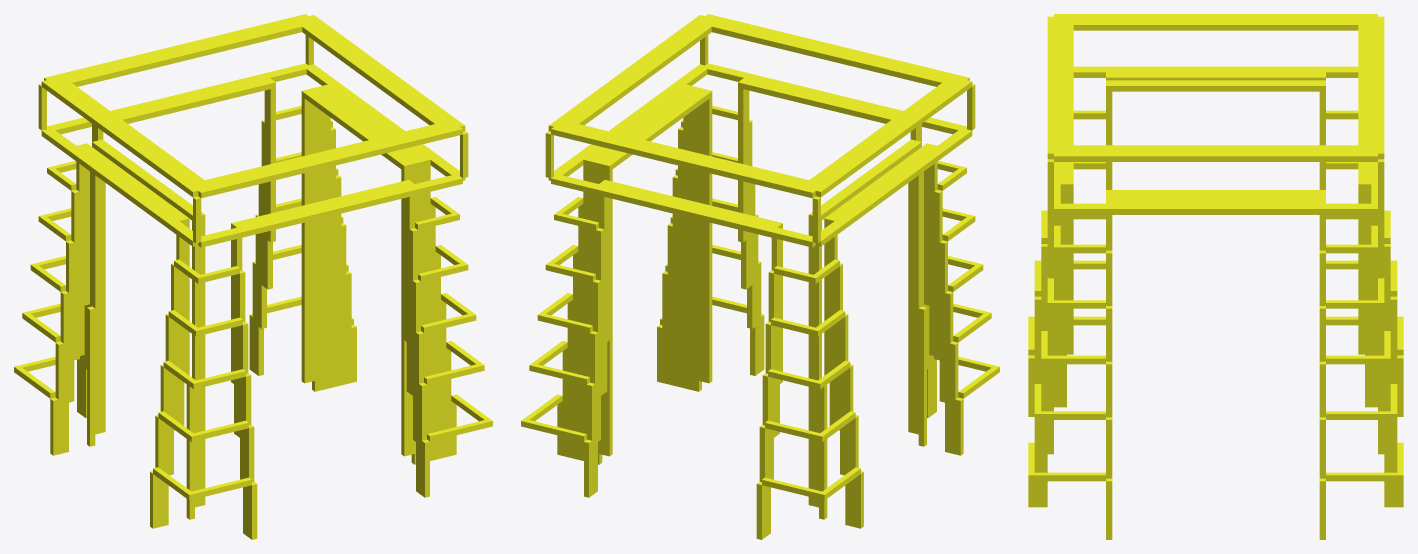
File: MejoraCaseta-4.obj
3 views of the same model, side by side, from view 1: azimuth 30°, elevation 25°; view 2: azimuth 150°, elevation 25°; view 3: azimuth 270°, elevation 25° (orthographic). The views are drawn at different scales.
Size of the model in its own units: 5.8 by 6.4 by 5.8.
Materials: 1 (1 with a texture image).
